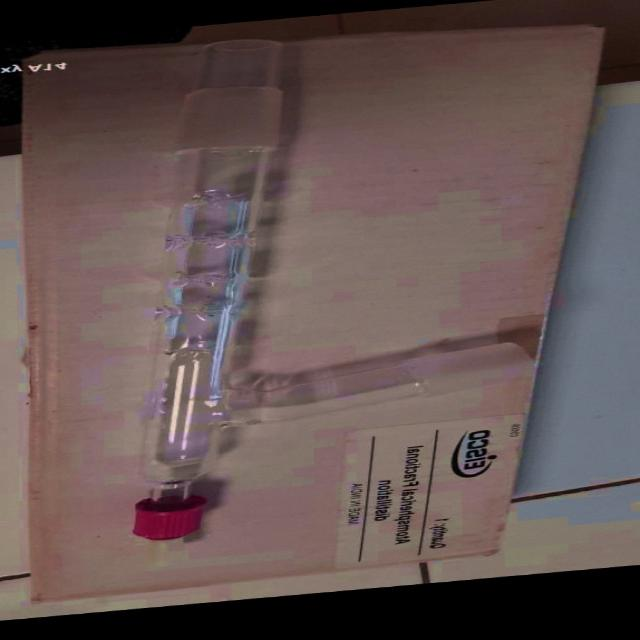Atmospherical Fractional Distillation: (96, 9, 542, 566)
